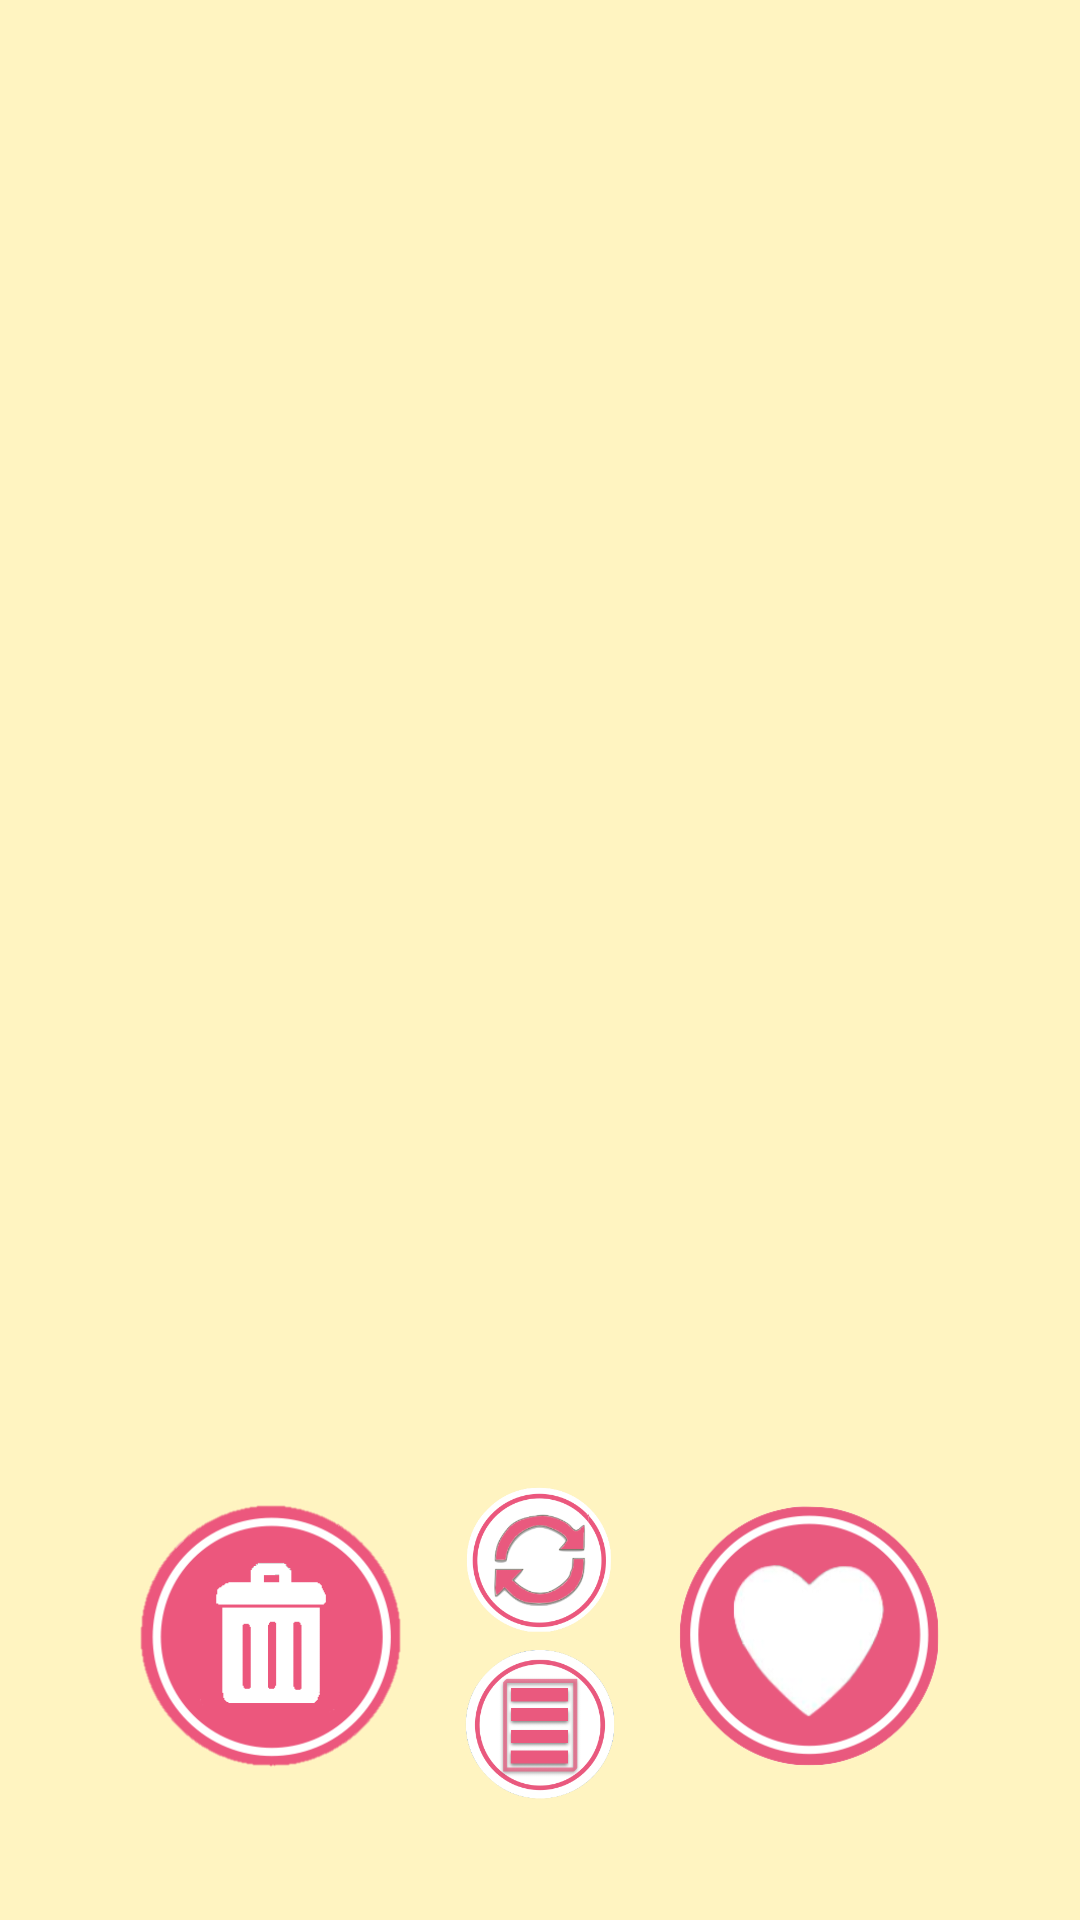

Icon click points for this 1080w x 1920h phone screenshot, format [x,y]:
change to listview: [540,1724]
refresh: [539,1560]
watch like: [809,1635]
